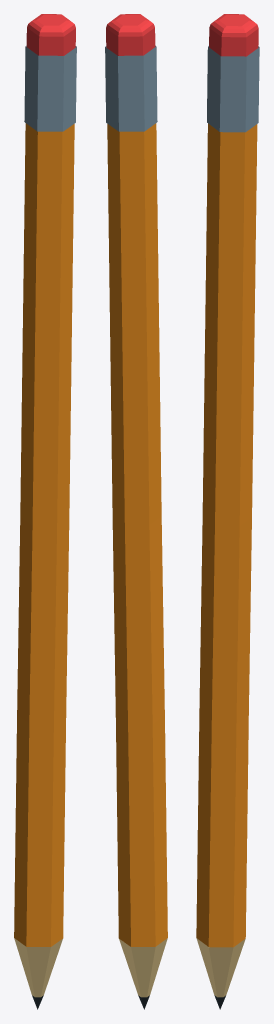
Rendered from lapiz.glb.
3 renders of one model, left to right at view 1: azimuth 30°, elevation 25°; view 2: azimuth 150°, elevation 25°; view 3: azimuth 330°, elevation 25°, orthographic.
Parts seen in each view (by area): view 1: cuerpoLapiz, baseBorrador, borradorLapiz, puntaLapiz; view 2: cuerpoLapiz, baseBorrador, borradorLapiz, puntaLapiz; view 3: cuerpoLapiz, baseBorrador, borradorLapiz, puntaLapiz.
Part boxes in pixels (x1,y1,x2,y2): cuerpoLapiz: [14, 123, 74, 946]; baseBorrador: [24, 45, 76, 131]; borradorLapiz: [26, 14, 75, 55]; puntaLapiz: [14, 938, 62, 997]; cuerpoLapiz: [107, 123, 167, 946]; baseBorrador: [105, 45, 157, 131]; borradorLapiz: [106, 14, 155, 55]; puntaLapiz: [119, 938, 167, 997]; cuerpoLapiz: [196, 123, 257, 947]; baseBorrador: [207, 46, 259, 132]; borradorLapiz: [209, 14, 258, 56]; puntaLapiz: [196, 938, 245, 997].
Bounding box in the file's own units: 0.0322 × 0.6039 × 0.0285.
